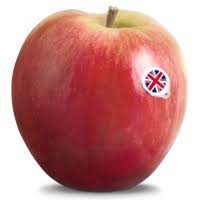apple: (17, 9, 189, 192)
